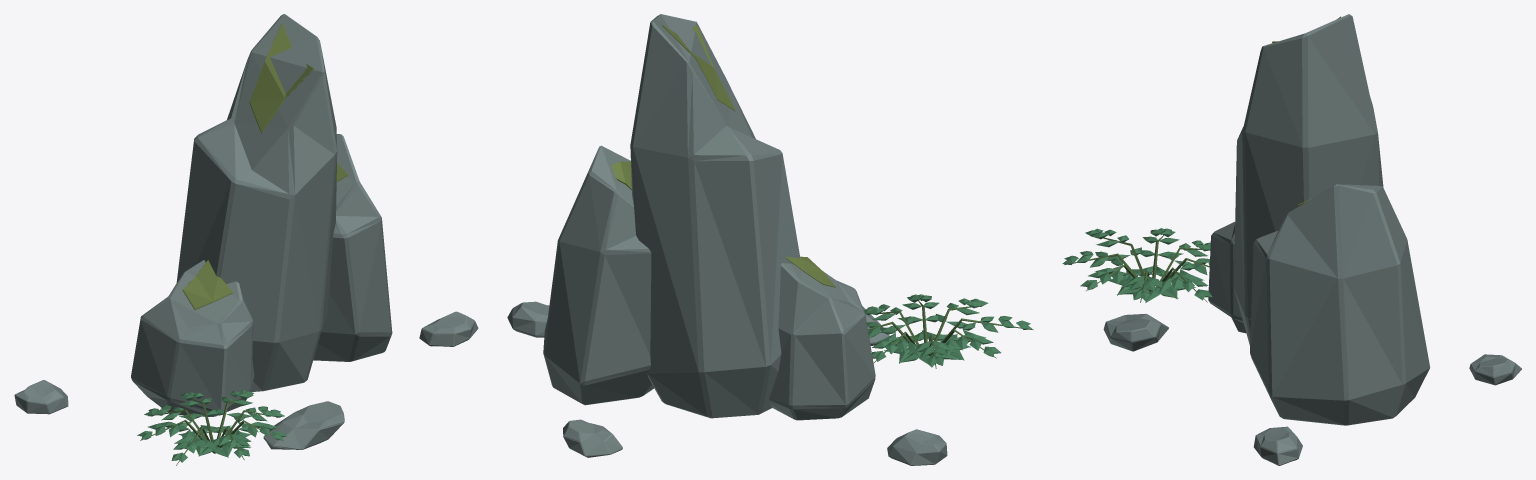
File: rock_shards.glb
The picture shows the model from 3 angles, left to right: view 1: azimuth 30°, elevation 25°; view 2: azimuth 150°, elevation 25°; view 3: azimuth 270°, elevation 25°; orthographic projection. The views are drawn at different scales.
Visible parts, largest first — view 1: rock_shards; view 2: rock_shards; view 3: rock_shards.
Boxes of the visible parts, x1,y1,x2,y2 form: rock_shards: (14,14,478,465); rock_shards: (507,14,1033,465); rock_shards: (1062,14,1521,465).
Bounding box in the file's own units: 2.81 × 2.11 × 2.38.
